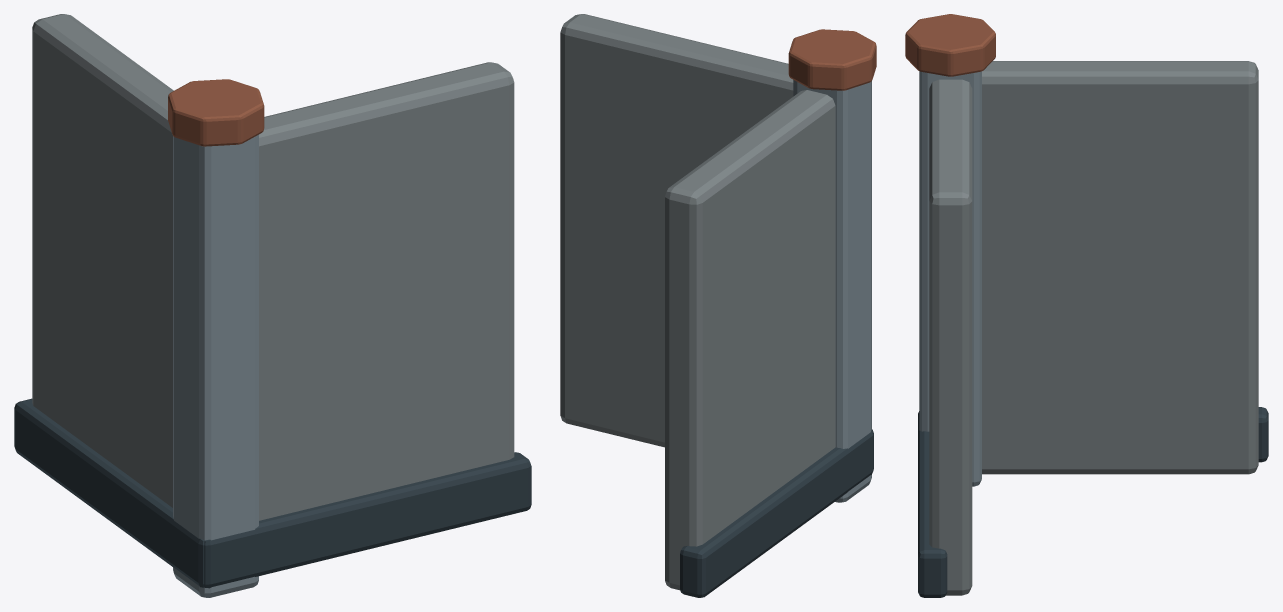
The model's file is Corner-Wall.glb.
3 renders of one model, left to right at view 1: azimuth 30°, elevation 25°; view 2: azimuth 150°, elevation 25°; view 3: azimuth 270°, elevation 25°, orthographic. The views are drawn at different scales.
Visible parts, largest first — view 1: CornerWall_A, CornerWall_B, CornerWall_Pillar, CornerWall_BaseA, CornerWall_BaseB, CornerWall_RuinCap; view 2: CornerWall_B, CornerWall_A, CornerWall_Pillar, CornerWall_BaseB, CornerWall_RuinCap; view 3: CornerWall_B, CornerWall_A, CornerWall_Pillar, CornerWall_RuinCap, CornerWall_BaseA, CornerWall_BaseB.
Boxes of the visible parts, x1,y1,x2,y2 form: CornerWall_A: [259, 62, 514, 520]; CornerWall_B: [32, 14, 173, 507]; CornerWall_Pillar: [173, 134, 258, 597]; CornerWall_BaseA: [204, 452, 531, 588]; CornerWall_BaseB: [14, 398, 204, 587]; CornerWall_RuinCap: [168, 79, 264, 146]; CornerWall_B: [665, 90, 835, 590]; CornerWall_A: [560, 14, 793, 447]; CornerWall_Pillar: [793, 80, 871, 502]; CornerWall_BaseB: [680, 429, 873, 597]; CornerWall_RuinCap: [788, 29, 876, 90]; CornerWall_B: [982, 61, 1258, 474]; CornerWall_A: [929, 79, 972, 595]; CornerWall_Pillar: [919, 71, 981, 486]; CornerWall_RuinCap: [905, 14, 995, 76]; CornerWall_BaseA: [918, 411, 947, 597]; CornerWall_BaseB: [1258, 407, 1268, 462].
Bounding box in the file's own units: 2.21 × 2.98 × 2.21.
